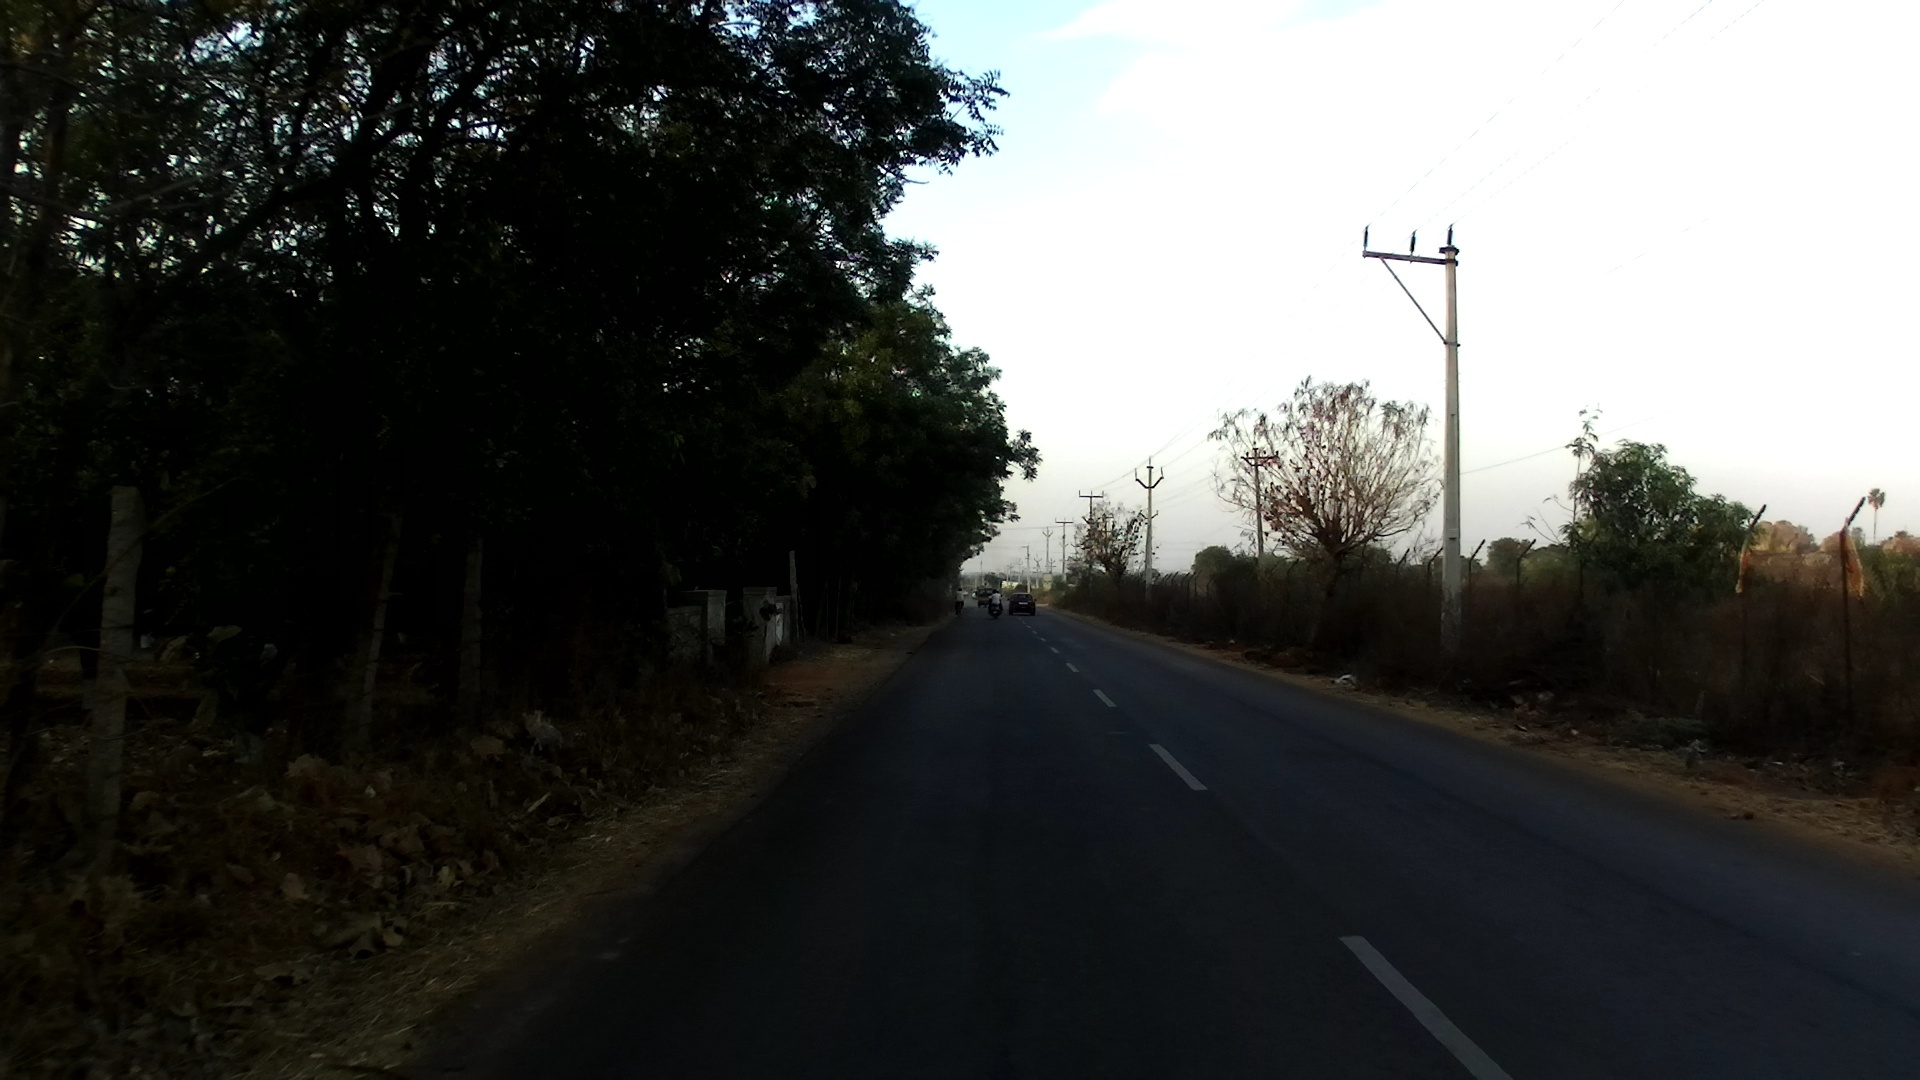autorickshaw: (976, 583, 996, 610)
bicycle: (955, 596, 964, 623)
car: (1007, 592, 1039, 619), (972, 588, 980, 601)
motorcycle: (987, 594, 1004, 618)
rider: (987, 587, 1006, 616), (953, 587, 969, 616), (990, 587, 1003, 613)
